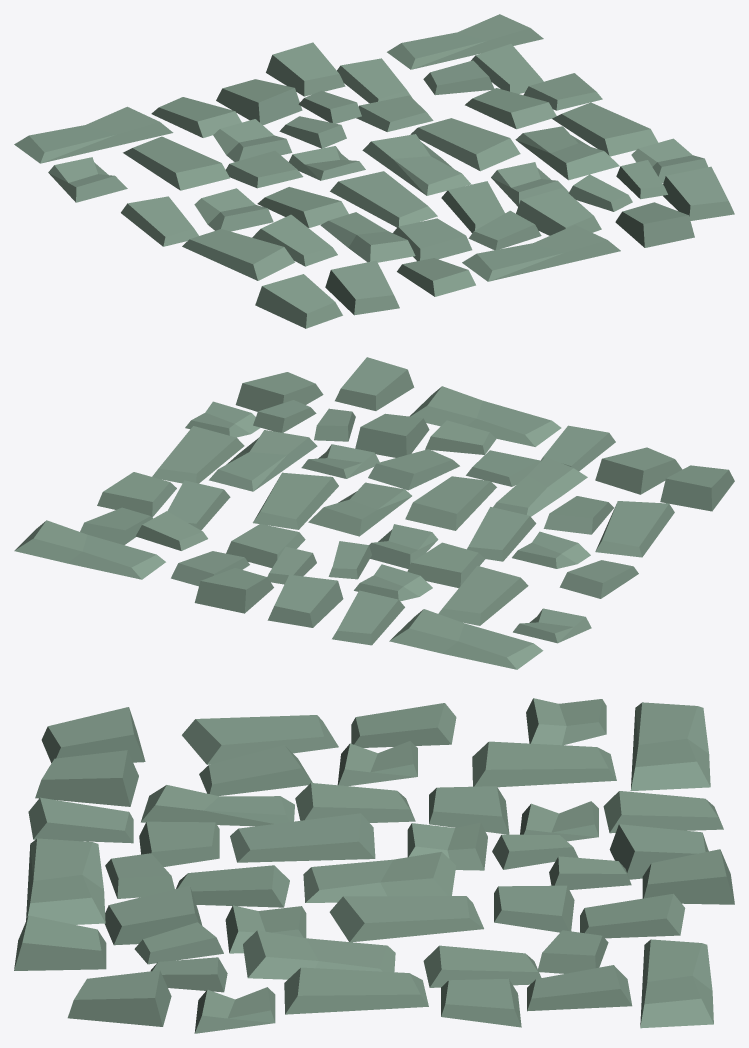
The model's file is SM_L_Env_Tile_Tile.fbx.
3 renders of one model, top to bottom at view 1: azimuth 30°, elevation 25°; view 2: azimuth 150°, elevation 25°; view 3: azimuth 270°, elevation 25°, orthographic. The views are drawn at different scales.
Visible parts, largest first — view 1: SM_L_Env_Tile; view 2: SM_L_Env_Tile; view 3: SM_L_Env_Tile.
Part boxes in pixels (left/top/right/bottom): SM_L_Env_Tile: left=14, top=14, right=734, bottom=328; SM_L_Env_Tile: left=14, top=357, right=734, bottom=669; SM_L_Env_Tile: left=14, top=698, right=734, bottom=1033.
Size of the model in its own units: 1.15 by 0.0589 by 1.08.
